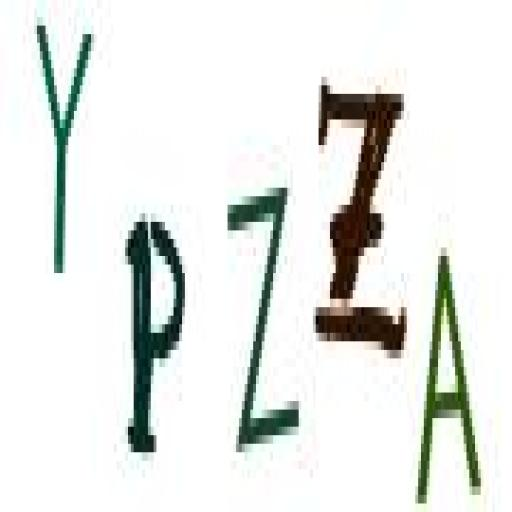A: (413, 225, 485, 512)
P: (120, 194, 187, 482)
Y: (30, 5, 96, 287)
Z: (315, 60, 417, 374), (219, 172, 307, 466)
